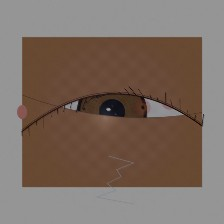foreign_body_visible: (160, 95, 178, 109)
